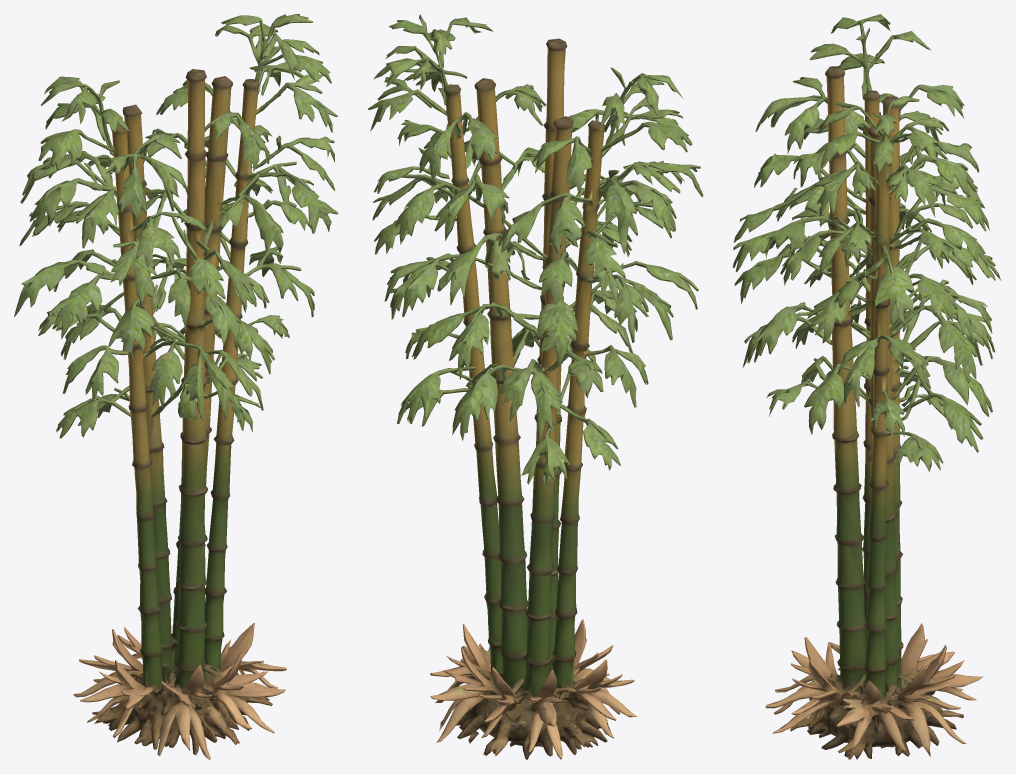
Rendered from bamboo_clump.glb.
3 views of the same model, side by side, from view 1: azimuth 30°, elevation 25°; view 2: azimuth 150°, elevation 25°; view 3: azimuth 270°, elevation 25° (orthographic). The views are drawn at different scales.
Parts seen in each view (by area): view 1: tripo_node_f49bf108-2845-4581-b5ca-f84b6e53147d; view 2: tripo_node_f49bf108-2845-4581-b5ca-f84b6e53147d; view 3: tripo_node_f49bf108-2845-4581-b5ca-f84b6e53147d.
Boxes of the visible parts, x1,y1,x2,y2 form: tripo_node_f49bf108-2845-4581-b5ca-f84b6e53147d: (14, 14, 338, 759); tripo_node_f49bf108-2845-4581-b5ca-f84b6e53147d: (368, 14, 703, 759); tripo_node_f49bf108-2845-4581-b5ca-f84b6e53147d: (732, 14, 1000, 759).
Size of the model in its own units: 0.4602 by 1 by 0.3633.
Materials: 1 (1 with a texture image).
